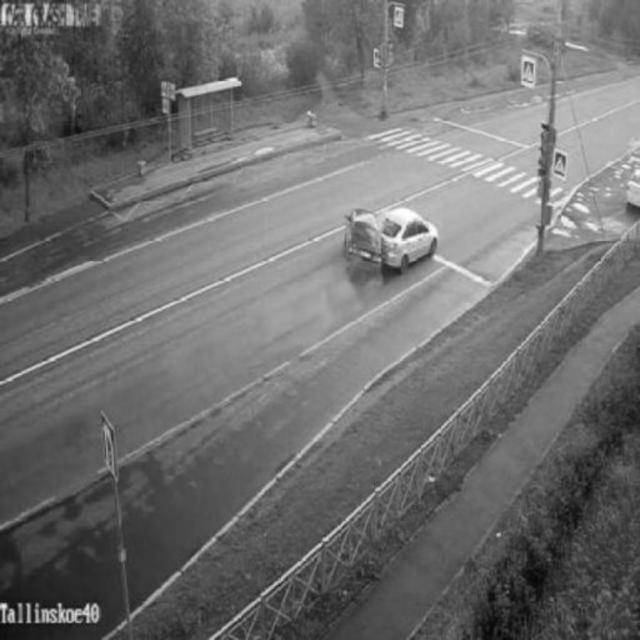accident: (335, 205, 443, 276)
